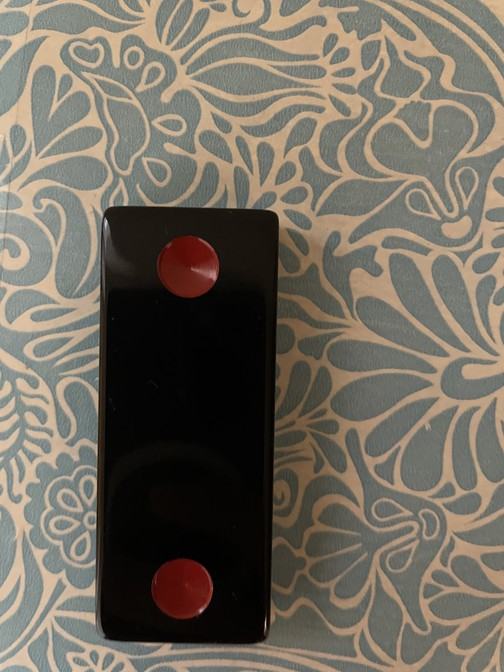earth: (99, 209, 280, 643)
